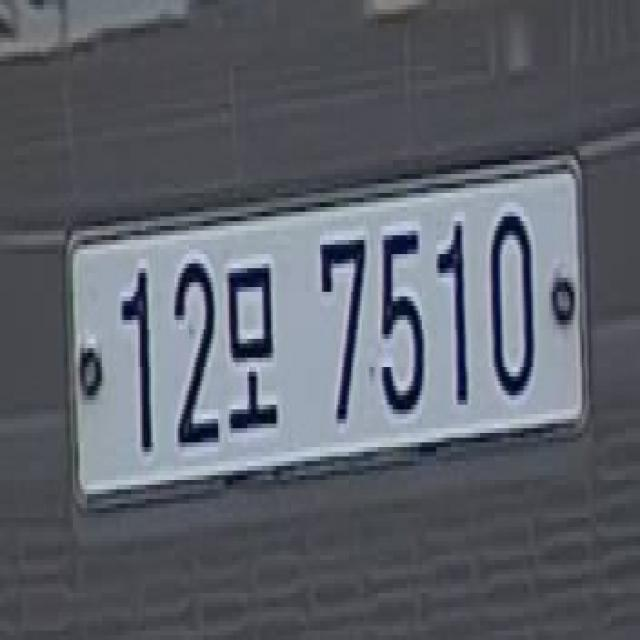0: (488, 198, 538, 412)
1: (434, 213, 474, 411), (120, 257, 154, 461)
2: (170, 250, 220, 451)
5: (378, 218, 430, 430)
7: (315, 228, 370, 436)
license_plate: (58, 139, 603, 535)
mo: (227, 248, 282, 447)
